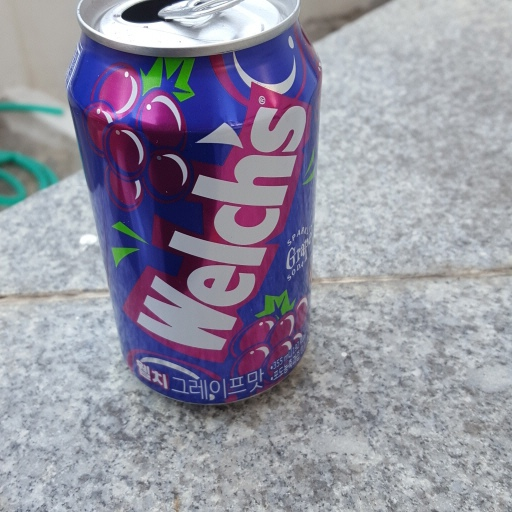Metal_0: (62, 1, 323, 410)
